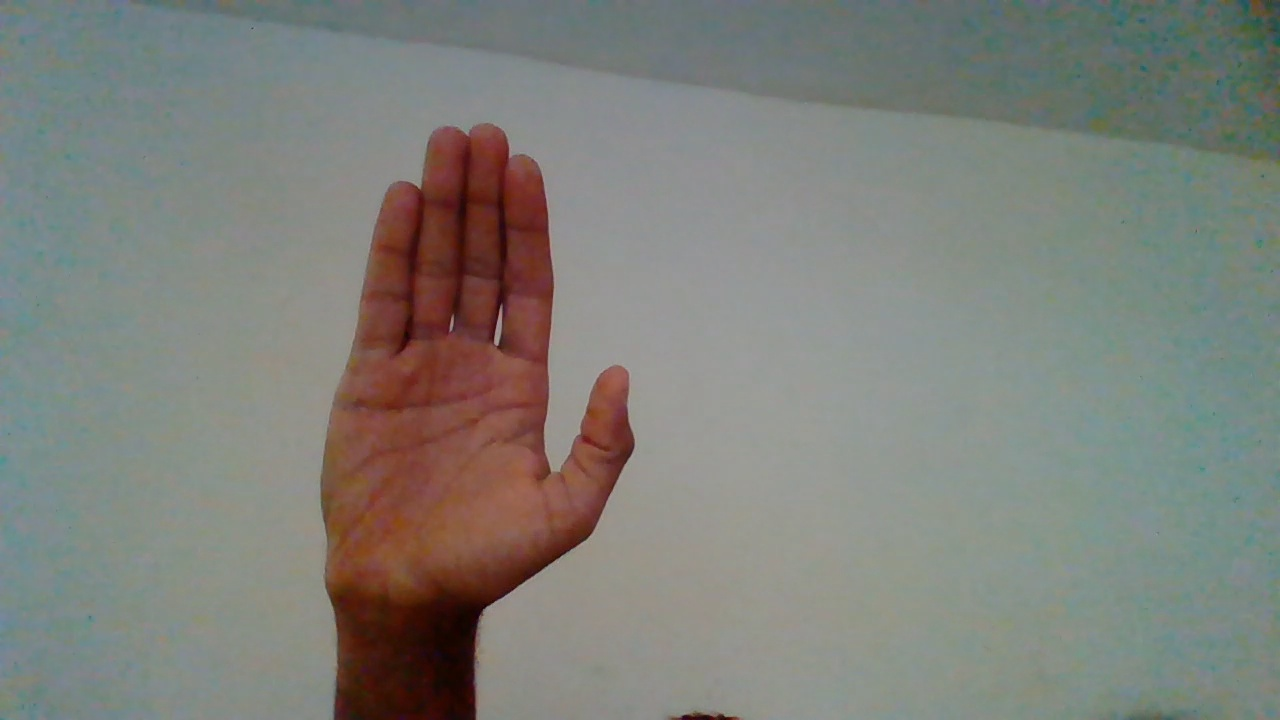ha: (315, 130, 643, 713)
